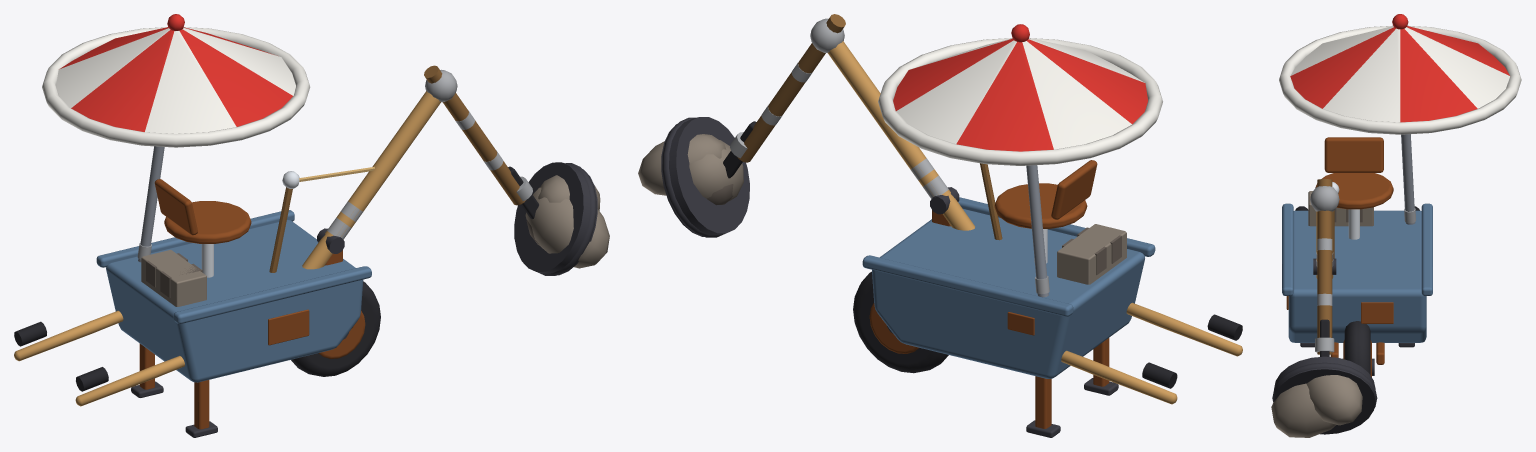
The model's file is vehicle_rock_digger_t1.glb.
3 views of the same model, side by side, from view 1: azimuth 30°, elevation 25°; view 2: azimuth 150°, elevation 25°; view 3: azimuth 270°, elevation 25° (orthographic). The views are drawn at different scales.
Visible parts, largest first — view 1: Tray.Tub, Umbrella.Canopy, Umbrella.Rim, Bucket.Wall, Boom.Handle, Bucket.Scoop.Rock.001, Tray.Lip, Stool.Seat, Counterweight, Wheel.Tyre, Stick.Handle, Handle.001 (+11 smaller); view 2: Tray.Tub, Umbrella.Canopy, Umbrella.Rim, Bucket.Wall, Boom.Handle, Tray.Lip.001, Counterweight, Wheel.Tyre, Stool.Seat, Stick.Handle, Bucket.Scoop.Rock.002, Bucket.Scoop.Rock.001 (+12 smaller); view 3: Umbrella.Canopy, Tray.Tub, Umbrella.Rim, Bucket.Wall, Bucket.Scoop.Rock.002, Stool.Back, Bucket.Scoop.Rock.001, Stool.Seat, Stick.Handle, Wheel.Tyre, Tray.Lip, Tray.Lip.001 (+7 smaller).
Part boxes in pixels (bbox=[...]): Tray.Tub: bbox=[106, 220, 363, 382]; Umbrella.Canopy: bbox=[56, 27, 295, 133]; Umbrella.Rim: bbox=[42, 27, 310, 147]; Bucket.Wall: bbox=[514, 162, 597, 275]; Boom.Handle: bbox=[302, 91, 440, 269]; Bucket.Scoop.Rock.001: bbox=[525, 187, 609, 268]; Tray.Lip: bbox=[173, 266, 371, 323]; Stool.Seat: bbox=[164, 201, 251, 243]; Counterweight: bbox=[141, 250, 206, 306]; Wheel.Tyre: bbox=[291, 281, 380, 376]; Stick.Handle: bbox=[424, 65, 525, 205]; Handle.001: bbox=[14, 310, 123, 361]; Tray.Tub: bbox=[872, 209, 1144, 378]; Umbrella.Canopy: bbox=[893, 38, 1147, 151]; Umbrella.Rim: bbox=[878, 38, 1162, 165]; Bucket.Wall: bbox=[661, 117, 749, 236]; Boom.Handle: bbox=[828, 41, 975, 230]; Tray.Lip.001: bbox=[862, 255, 1073, 316]; Counterweight: bbox=[1057, 224, 1126, 284]; Wheel.Tyre: bbox=[853, 271, 948, 373]; Stool.Seat: bbox=[994, 183, 1087, 228]; Stick.Handle: bbox=[737, 14, 845, 162]; Bucket.Scoop.Rock.002: bbox=[638, 134, 726, 195]; Bucket.Scoop.Rock.001: bbox=[689, 140, 743, 201]; Umbrella.Canopy: bbox=[1290, 26, 1510, 122]; Tray.Tub: bbox=[1288, 210, 1426, 342]; Umbrella.Rim: bbox=[1279, 25, 1521, 134]; Bucket.Wall: bbox=[1274, 356, 1375, 434]; Bucket.Scoop.Rock.002: bbox=[1306, 375, 1362, 425]; Stool.Back: bbox=[1324, 137, 1383, 172]; Bucket.Scoop.Rock.001: bbox=[1271, 383, 1336, 437]; Stool.Seat: bbox=[1315, 173, 1393, 209]; Stick.Handle: bbox=[1317, 179, 1332, 354]; Wheel.Tyre: bbox=[1344, 321, 1370, 375]; Tray.Lip: bbox=[1282, 203, 1293, 295]; Tray.Lip.001: bbox=[1421, 203, 1432, 295].
Bounding box in the file's own units: 3.45 × 2.28 × 1.53.
